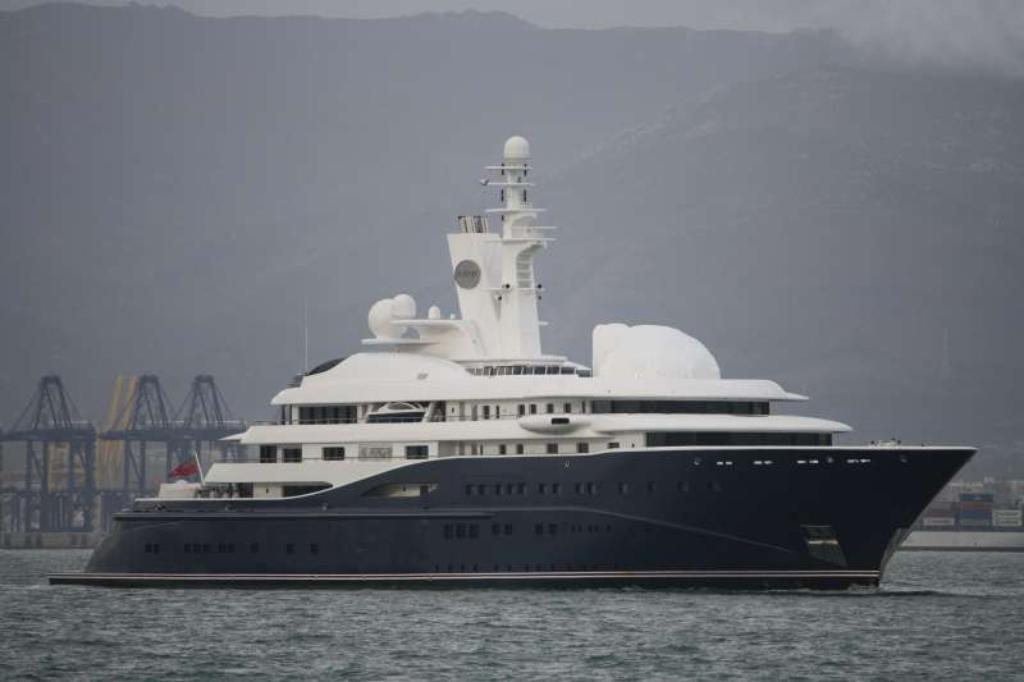PassengerShip: (56, 132, 980, 606)
